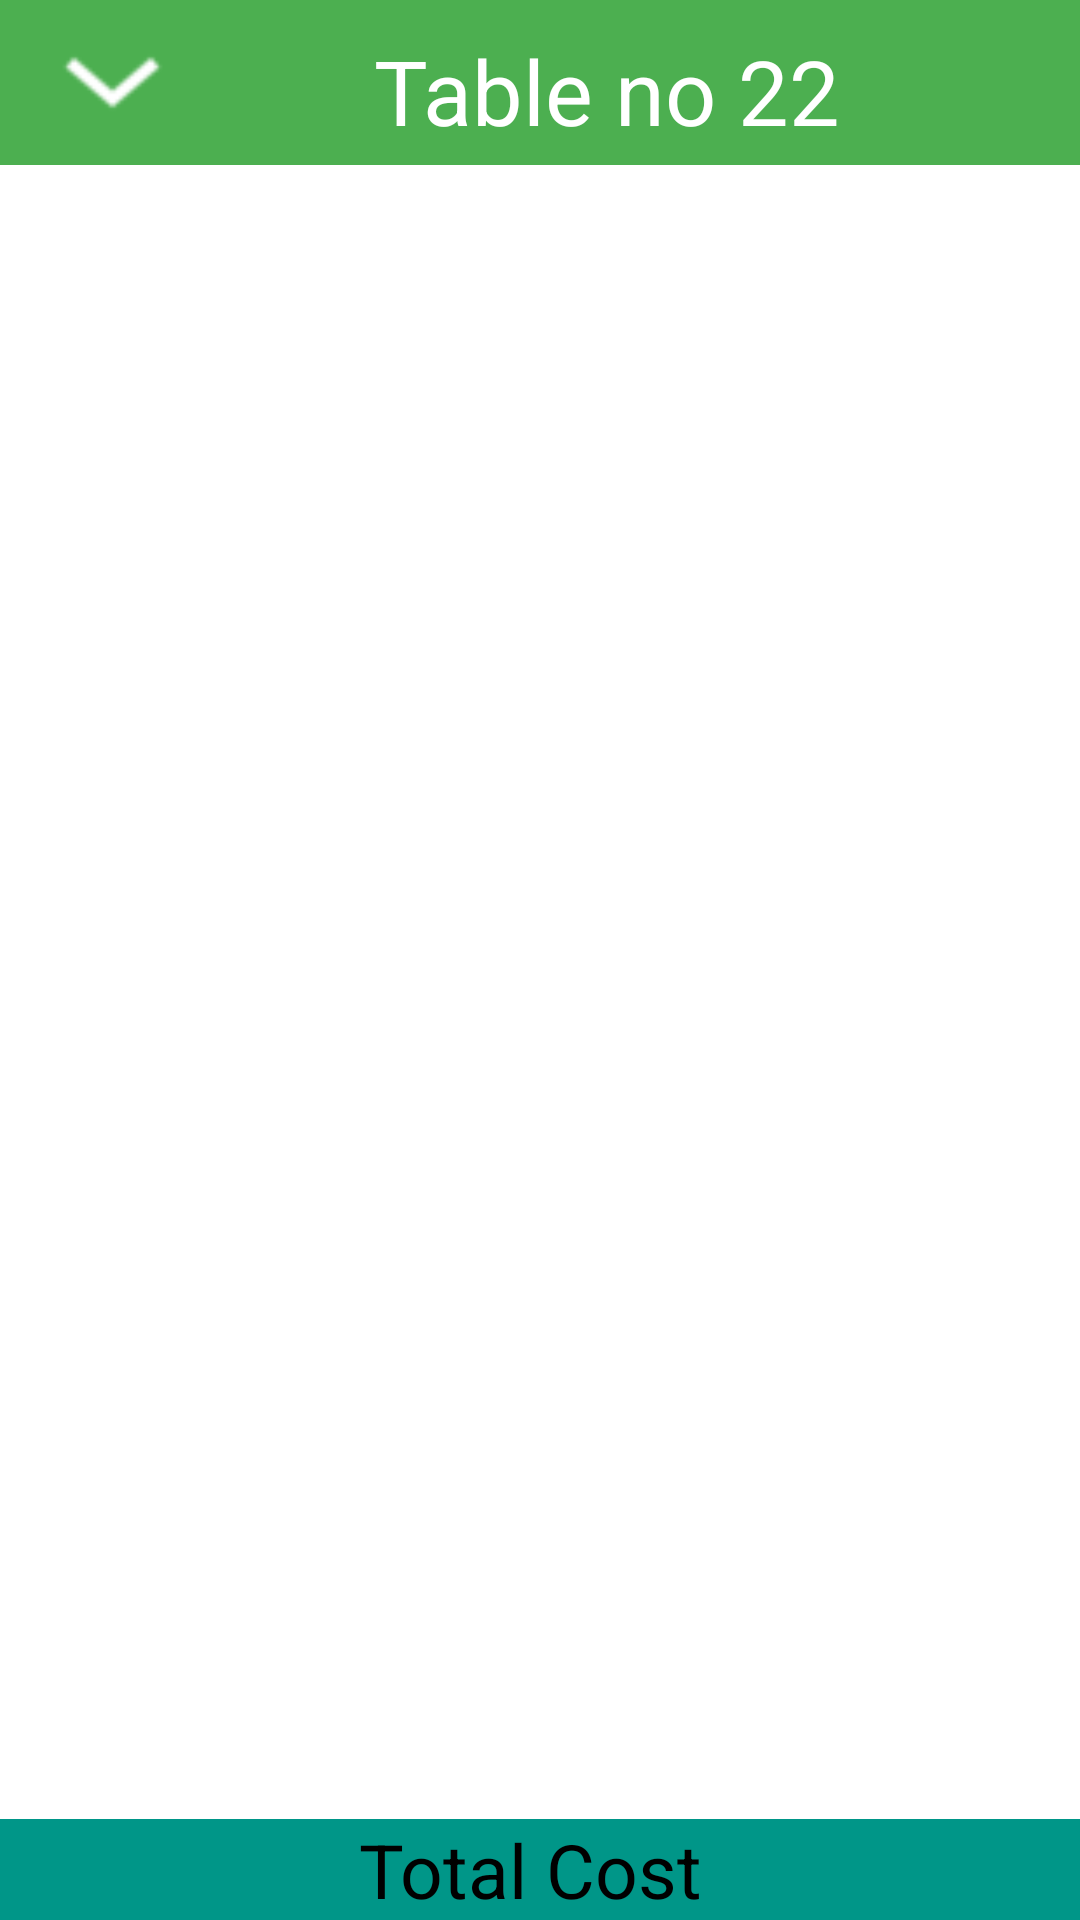

Named icons in this screenshot (1080 x 1920) and their bounding boxes, [left=x1, top=y1, right=x2, bottom=y2]:
slide down: [left=65, top=57, right=160, bottom=108]
